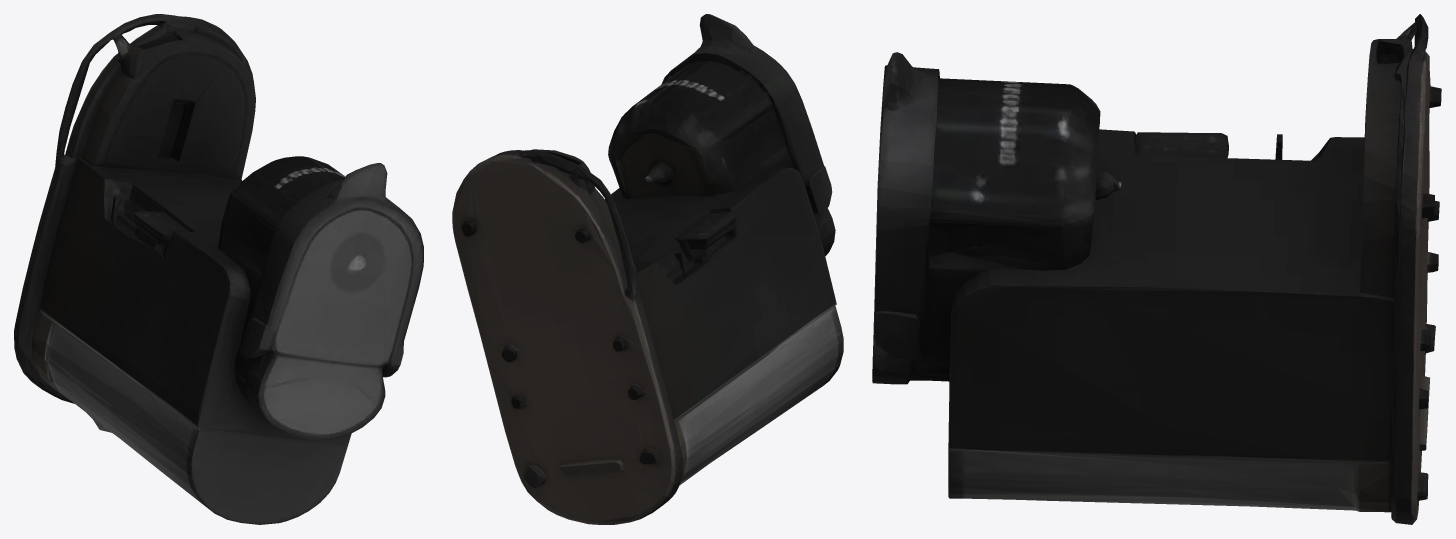
3 renders of one model, left to right at view 1: azimuth 30°, elevation 25°; view 2: azimuth 150°, elevation 25°; view 3: azimuth 270°, elevation 25°, orthographic. The views are drawn at different scales.
Visible parts, largest first — view 1: geometry_0; view 2: geometry_0; view 3: geometry_0.
Boxes of the visible parts, box(x1,y1,x2,y2) form: geometry_0: box(14, 14, 423, 524); geometry_0: box(452, 14, 843, 524); geometry_0: box(872, 14, 1441, 524).
Size of the model in its own units: 0.2034 by 0.3112 by 0.3212.
1 material, 1 textured.
